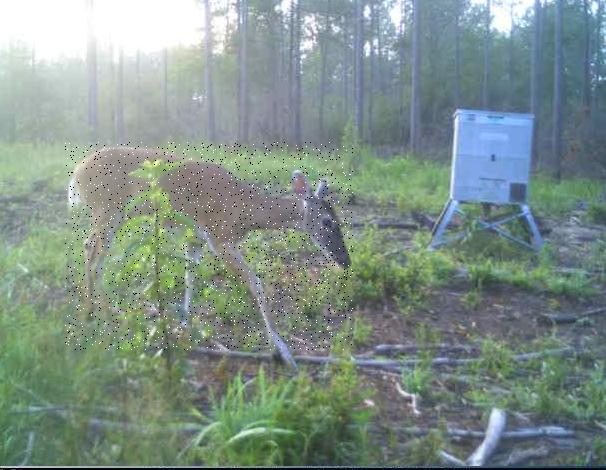Deer: (64, 142, 352, 350)
